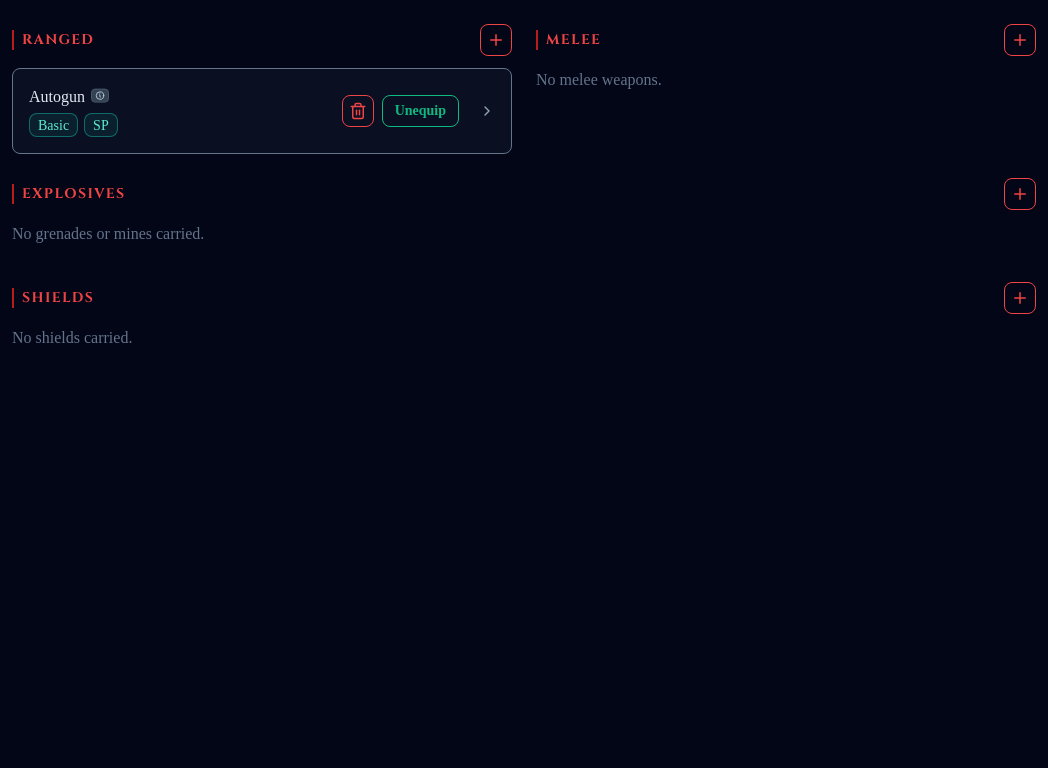
Test case: WeaponsTab › shows clips and rounds for clip-fed ranged ammo
The image size is (1048, 768).
What coordinates should you click on to do the following:
click the button named "Expand Autogun details"
I would click on:
 (262, 111)
Its box is [13,69,511,153].
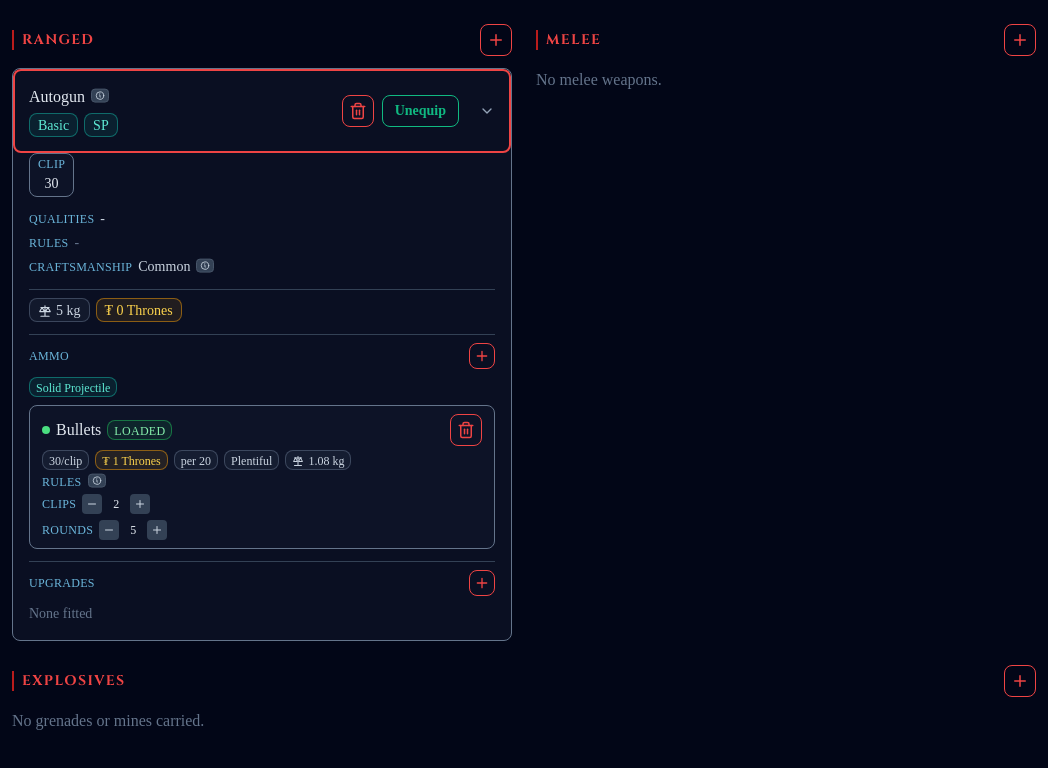
Expected: the text "Clips" is shown, [42,496,76,512]
Expected: the text "Rounds" is shown, [42,522,93,538]
